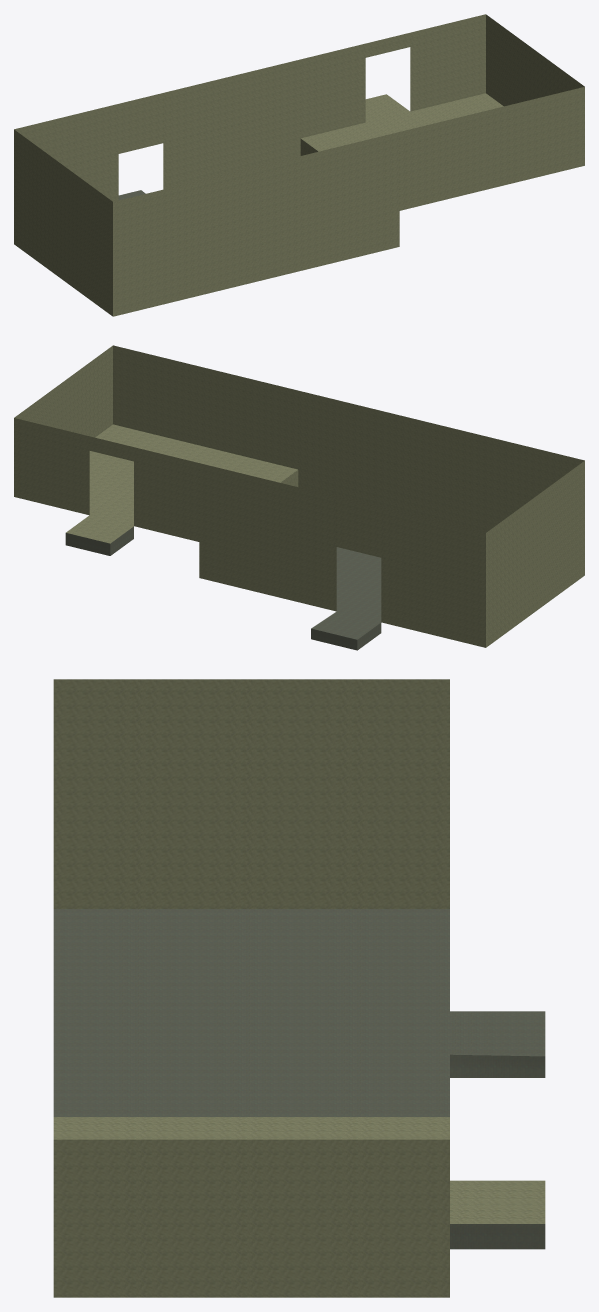
Rendered from ROOM_Right.fbx.
3 renders of one model, top to bottom at view 1: azimuth 30°, elevation 25°; view 2: azimuth 150°, elevation 25°; view 3: azimuth 270°, elevation 25°, orthographic. The views are drawn at different scales.
Visible parts, largest first — view 1: ROOM_Right; view 2: ROOM_Right; view 3: ROOM_Right.
Boxes of the visible parts, x1,y1,x2,y2 form: ROOM_Right: [14, 14, 584, 316]; ROOM_Right: [14, 345, 584, 650]; ROOM_Right: [53, 679, 545, 1297].
Bounding box in the file's own units: 6875 × 1750 × 3100.
